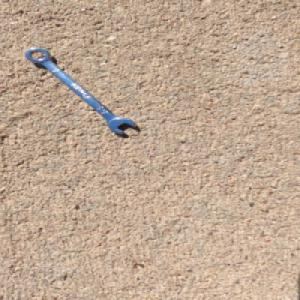Wrench: (23, 46, 137, 134)
